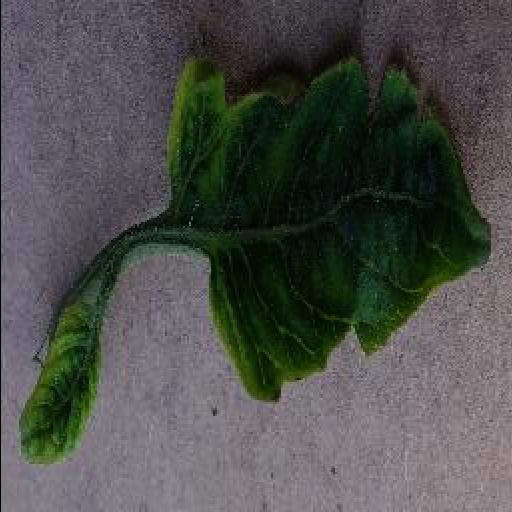disease_tomato: (164, 44, 492, 400), (18, 283, 108, 464)
